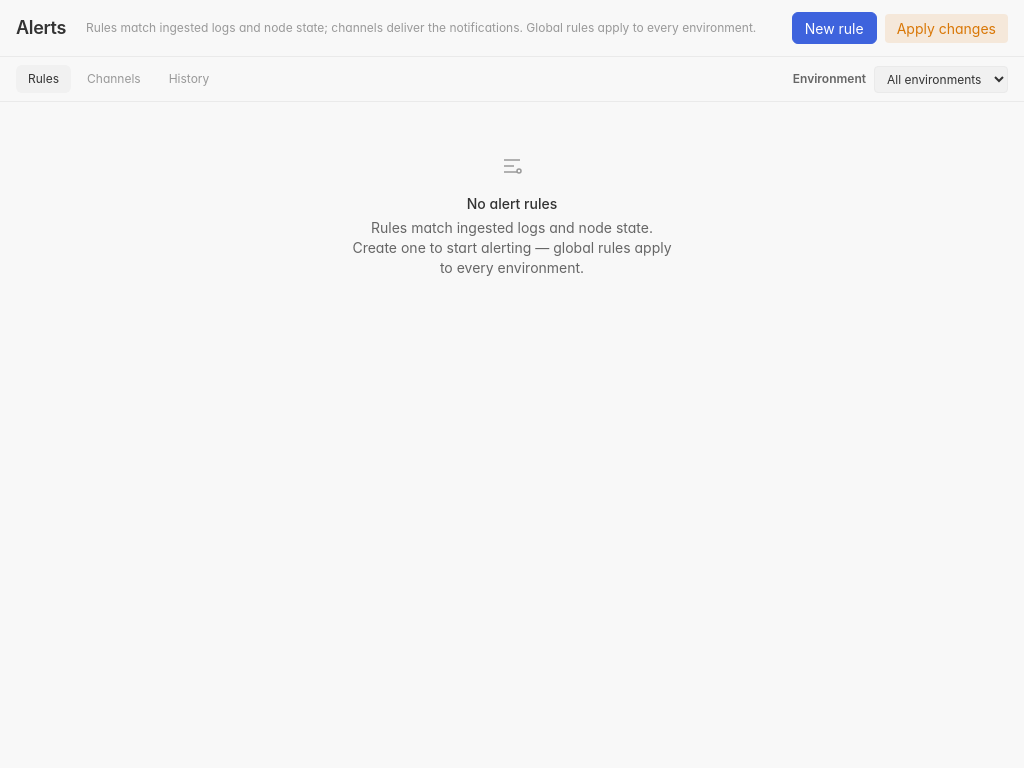
Test case: AlertsPage › sends a test notification from the channel editor
Click the tab "Channels": (114, 79) x1=75 y1=65 x2=153 y2=93
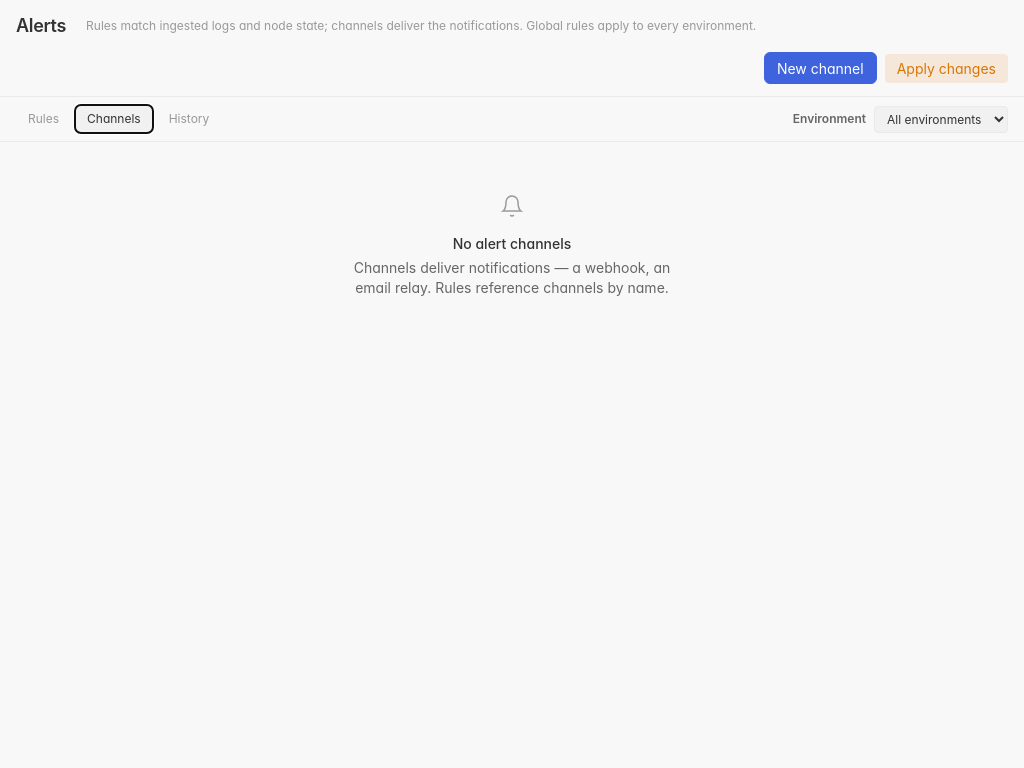
Click the button "New channel": (820, 68) x1=764 y1=52 x2=877 y2=84
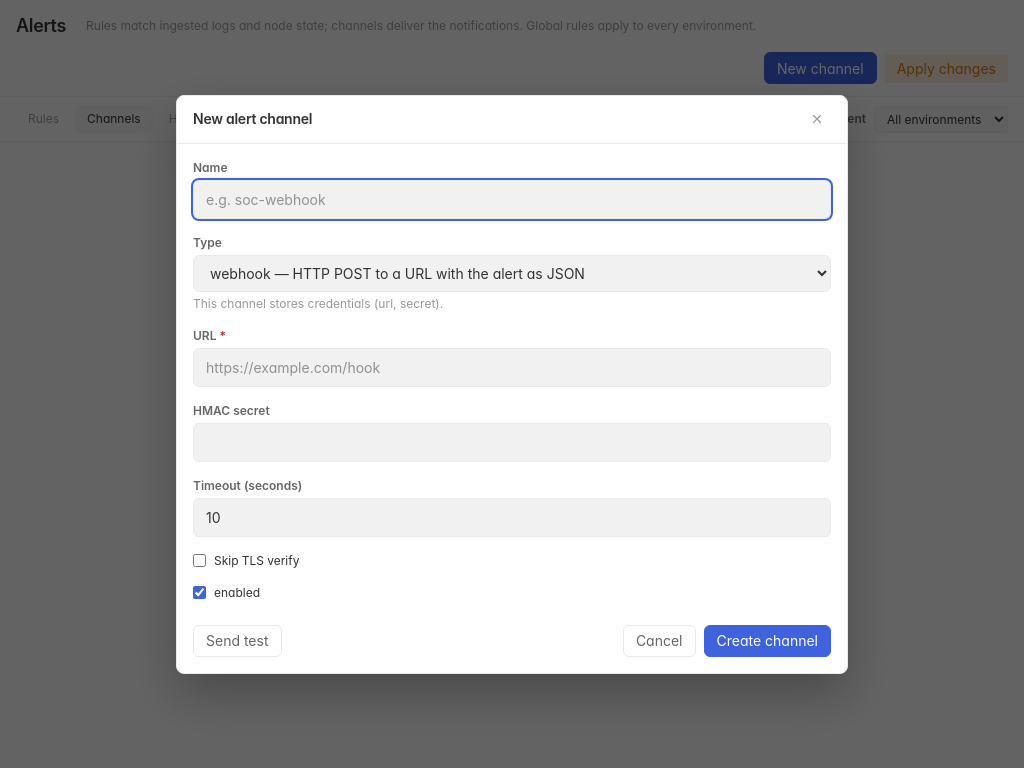
In the password field labelled "URL": (512, 367) x1=193 y1=348 x2=831 y2=386, type "https://hooks.example.com/x"
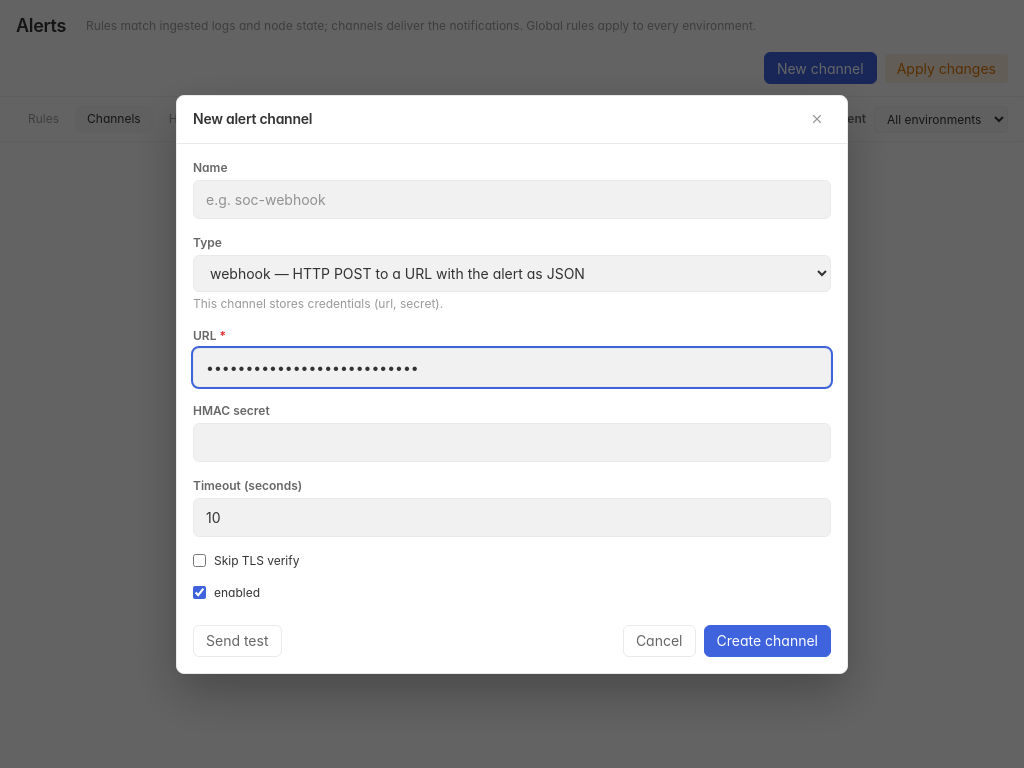
Click the button "Send test": (237, 640) x1=193 y1=624 x2=282 y2=656
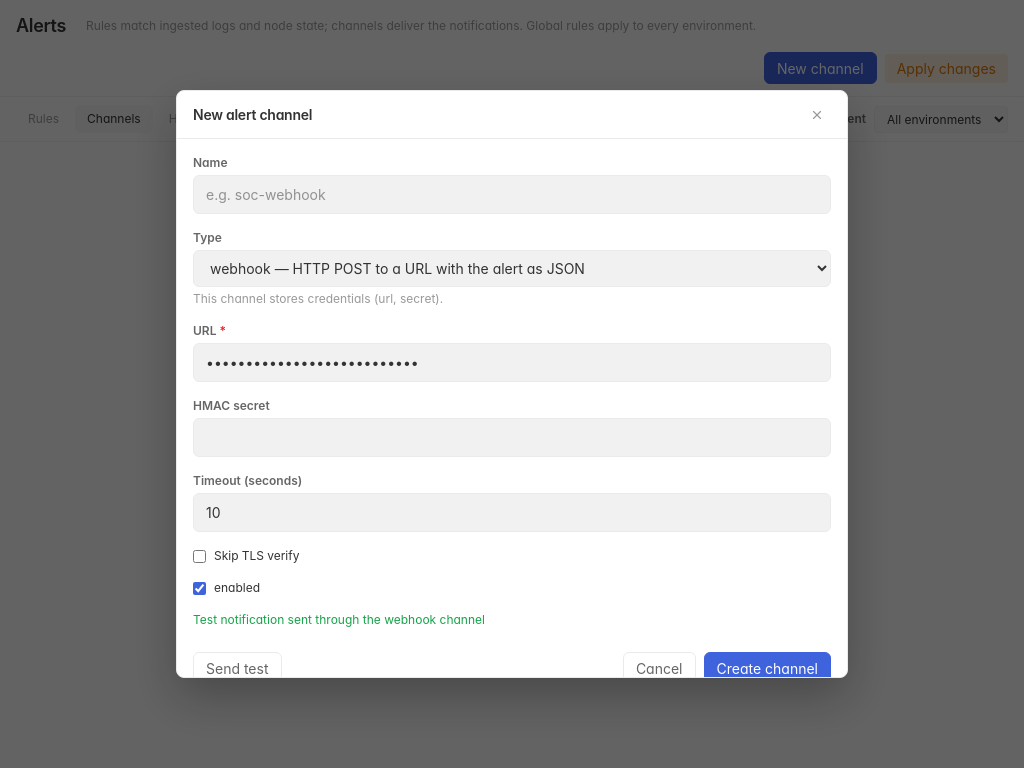
Now the text "Test notification sent through the webhook channel" is shown, box x1=193 y1=612 x2=485 y2=627
